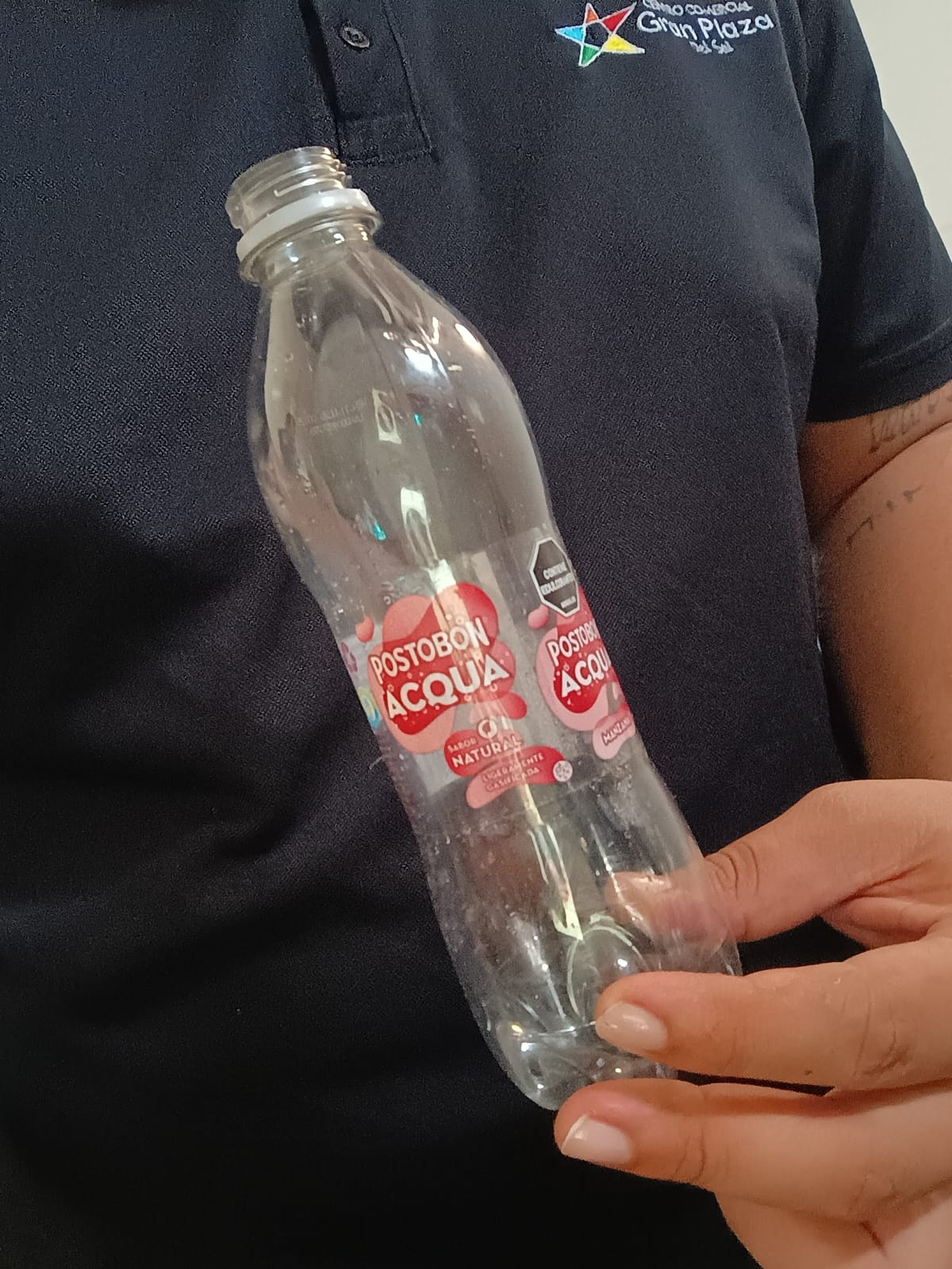Plastico: (225, 147, 744, 1113)
